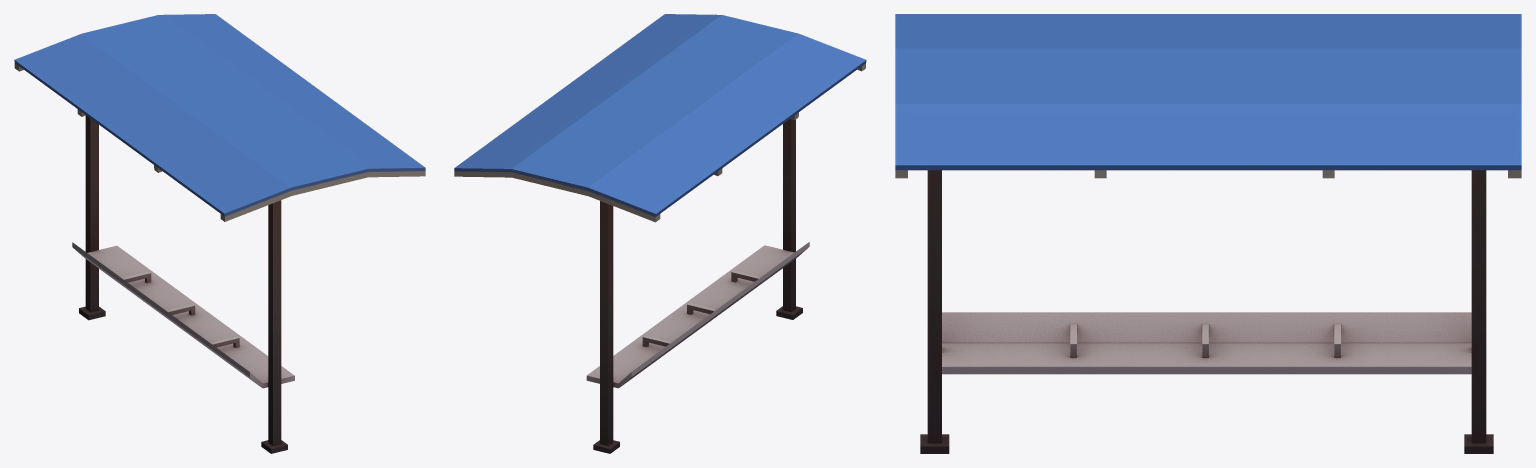
Rendered from parada-bus.glb.
3 views of the same model, side by side, from view 1: azimuth 30°, elevation 25°; view 2: azimuth 150°, elevation 25°; view 3: azimuth 270°, elevation 25° (orthographic). The views are drawn at different scales.
Parts seen in each view (by area): view 1: Cube.018, Cube.020, Cube.012; view 2: Cube.018, Cube.020, Cube.012; view 3: Cube.018, Cube.020, Cube.012.
Part boxes in pixels (<box>): Cube.018: <box>14,14,425,221</box>; Cube.020: <box>72,242,294,388</box>; Cube.012: <box>79,115,287,453</box>; Cube.018: <box>454,14,866,222</box>; Cube.020: <box>586,242,809,388</box>; Cube.012: <box>593,118,802,453</box>; Cube.018: <box>895,14,1521,178</box>; Cube.020: <box>942,312,1471,374</box>; Cube.012: <box>920,170,1493,453</box>.
Size of the model in its own units: 2.18 by 2.79 by 3.93.
Materials: 3 (3 with a texture image).
